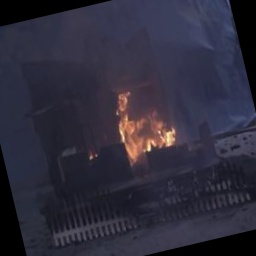fire: (108, 82, 180, 166)
